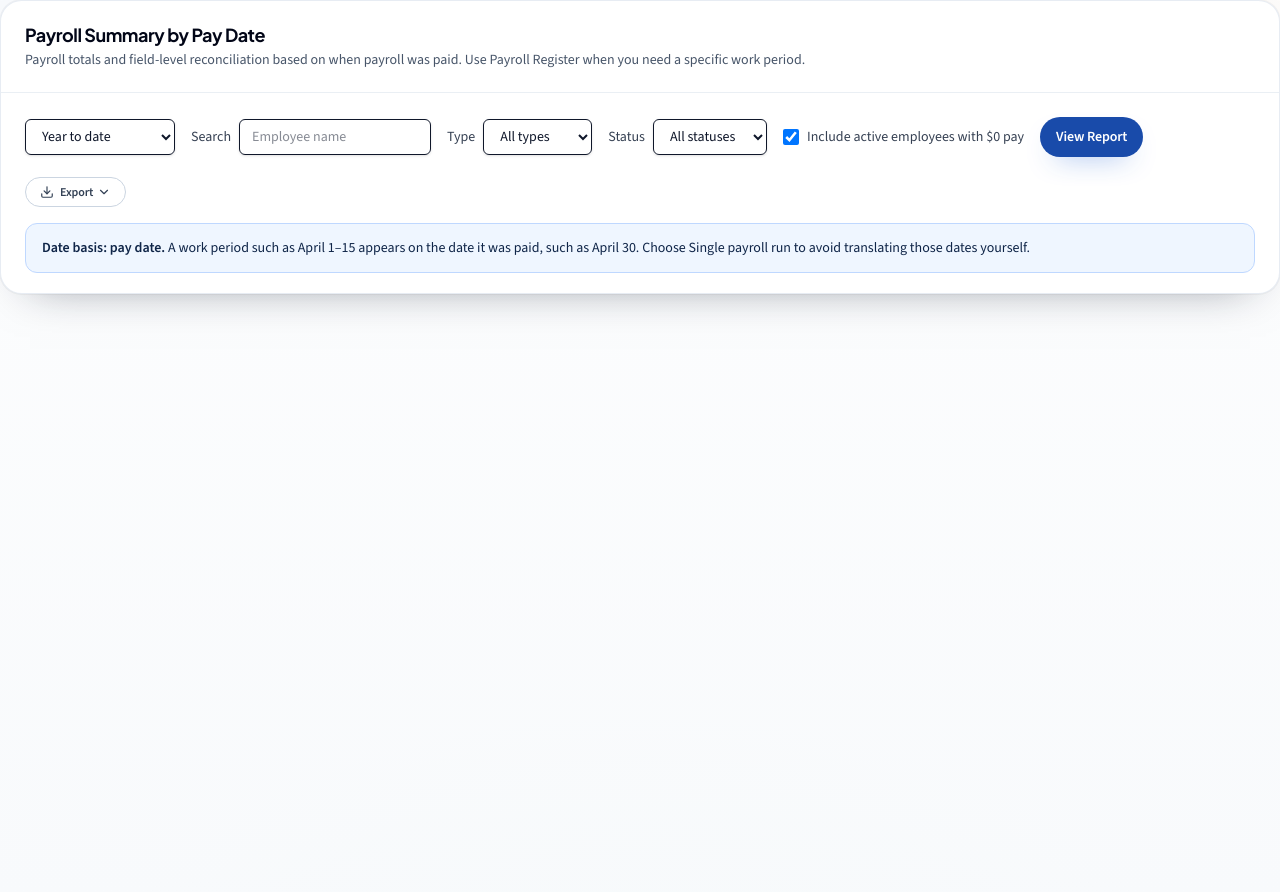
YtdSummaryPanel › lets staff select a work period while querying the exact pay date
This screenshot has width=1280, height=892.
Select "Single payroll run" in the dropdown named "Payroll summary period type" at [100, 137], box [25,119,175,155]
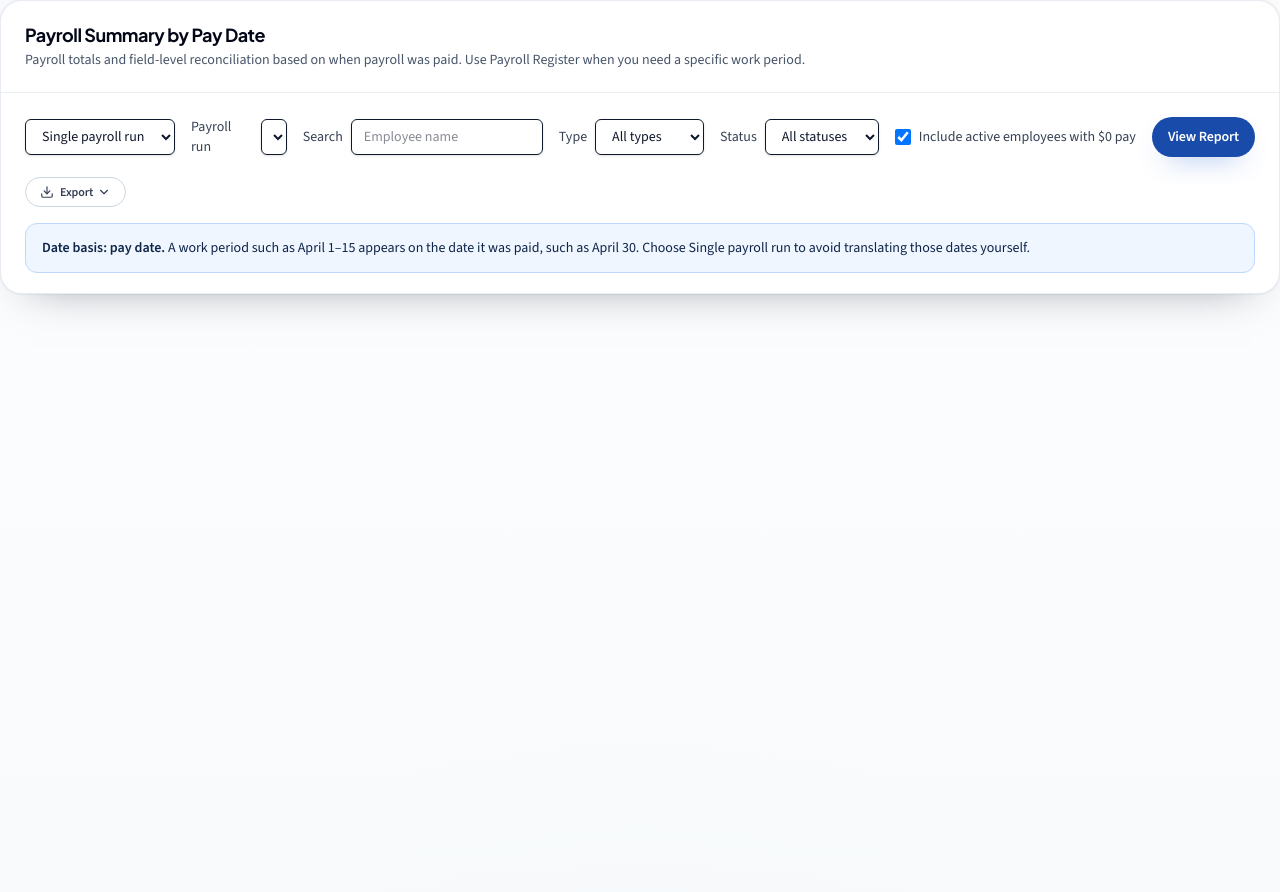
Click the button "View Report" at [1203, 137], box [1152,117,1255,157]
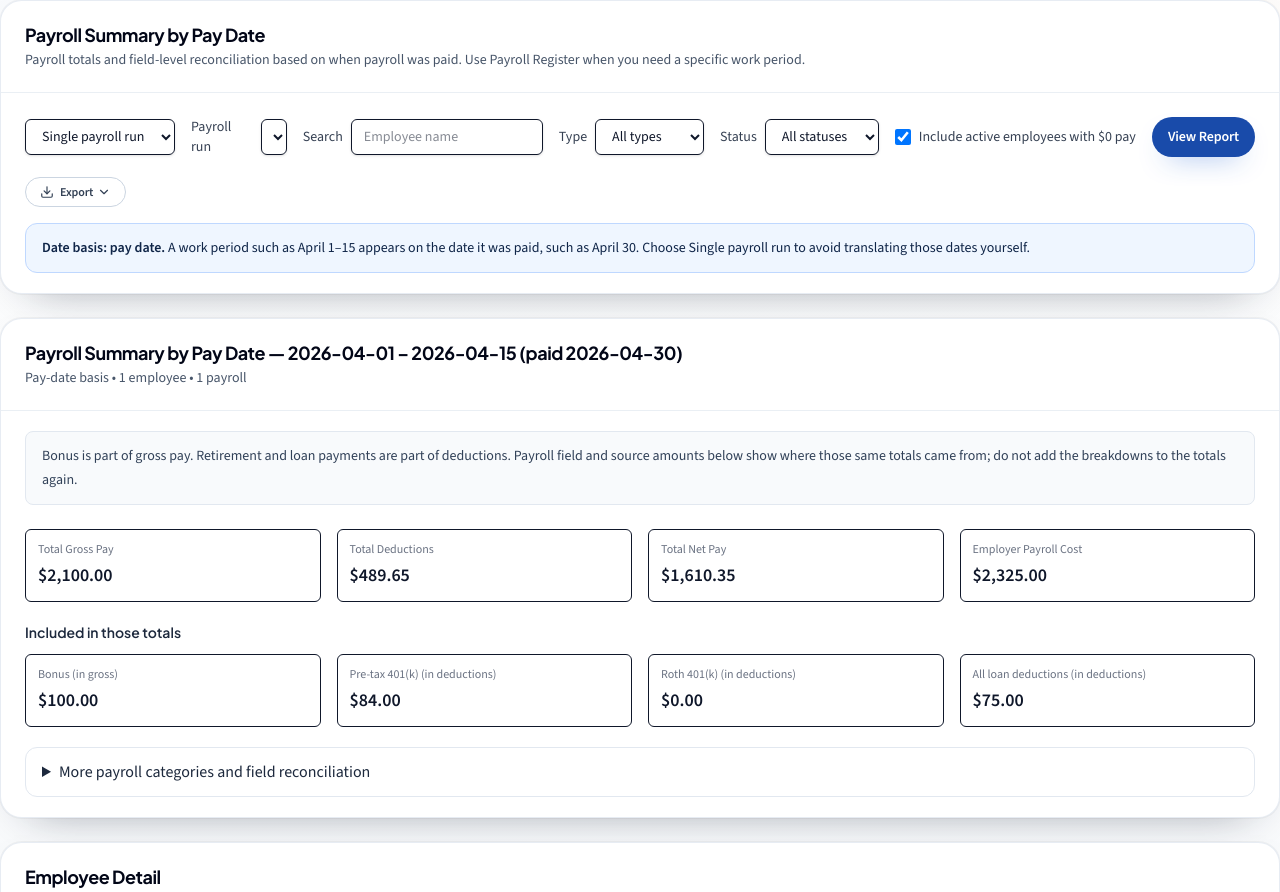
Now the heading "Payroll Summary by Pay Date — 2026-04-01 – 2026-04-15 (paid 2026-04-30)" is shown, box [25,341,682,364]
